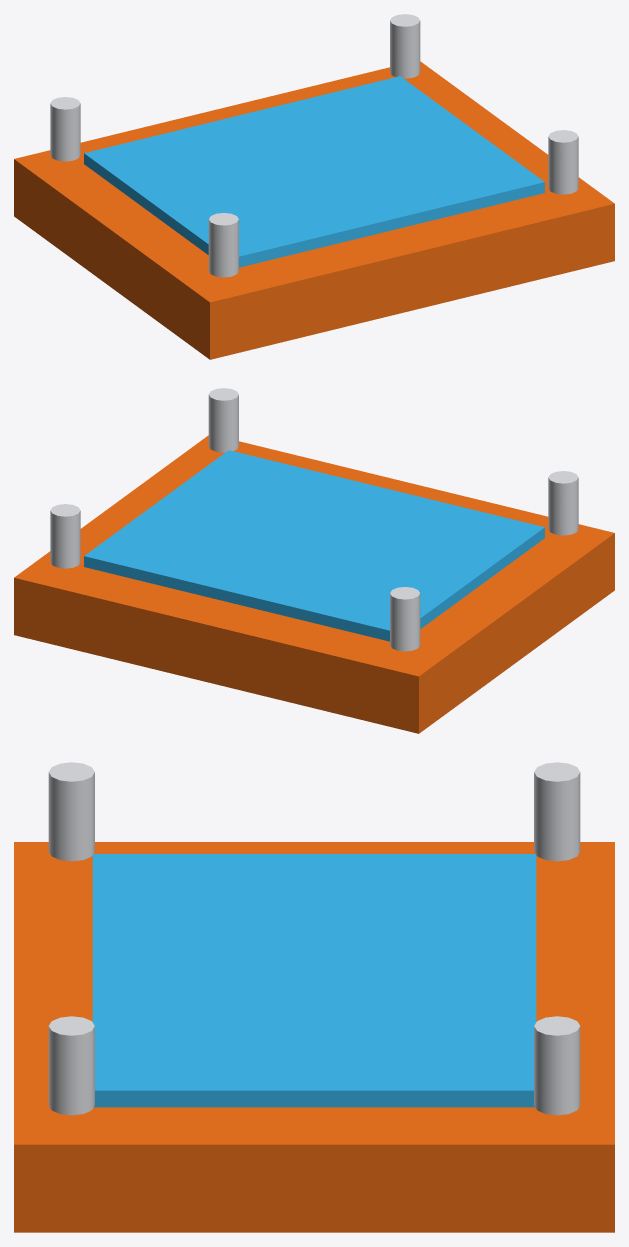
Rendered from toy_trampoline_pad.glb.
3 views of the same model, one above another, from view 1: azimuth 30°, elevation 25°; view 2: azimuth 150°, elevation 25°; view 3: azimuth 270°, elevation 25° (orthographic). The views are drawn at different scales.
Visible parts, largest first — view 1: solid_1, solid_2, solid_6, solid_3, solid_4, solid_5; view 2: solid_1, solid_2, solid_5, solid_4, solid_3, solid_6; view 3: solid_1, solid_2, solid_3, solid_4, solid_5, solid_6.
Part boxes in pixels (<box>): solid_1: <box>14,61,614,359</box>; solid_2: <box>84,76,544,267</box>; solid_6: <box>548,130,578,194</box>; solid_3: <box>50,97,80,161</box>; solid_4: <box>208,213,238,277</box>; solid_5: <box>390,14,420,78</box>; solid_1: <box>14,435,614,733</box>; solid_2: <box>84,450,544,641</box>; solid_5: <box>50,504,80,568</box>; solid_4: <box>548,471,578,535</box>; solid_3: <box>390,587,420,651</box>; solid_6: <box>208,388,238,452</box>; solid_1: <box>14,842,614,1232</box>; solid_2: <box>92,854,536,1107</box>; solid_3: <box>534,762,580,861</box>; solid_4: <box>48,762,94,861</box>; solid_5: <box>534,1016,580,1115</box>; solid_6: <box>48,1016,94,1115</box>.
Size of the model in its own units: 3.1 by 0.87 by 2.6.
